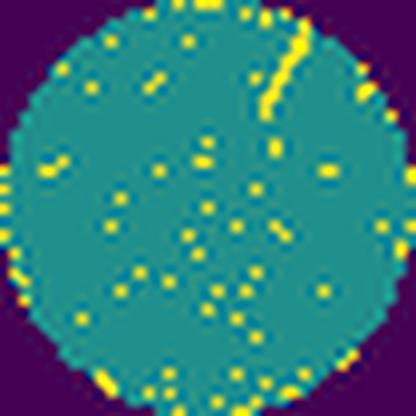Scratch: (252, 16, 324, 127)
